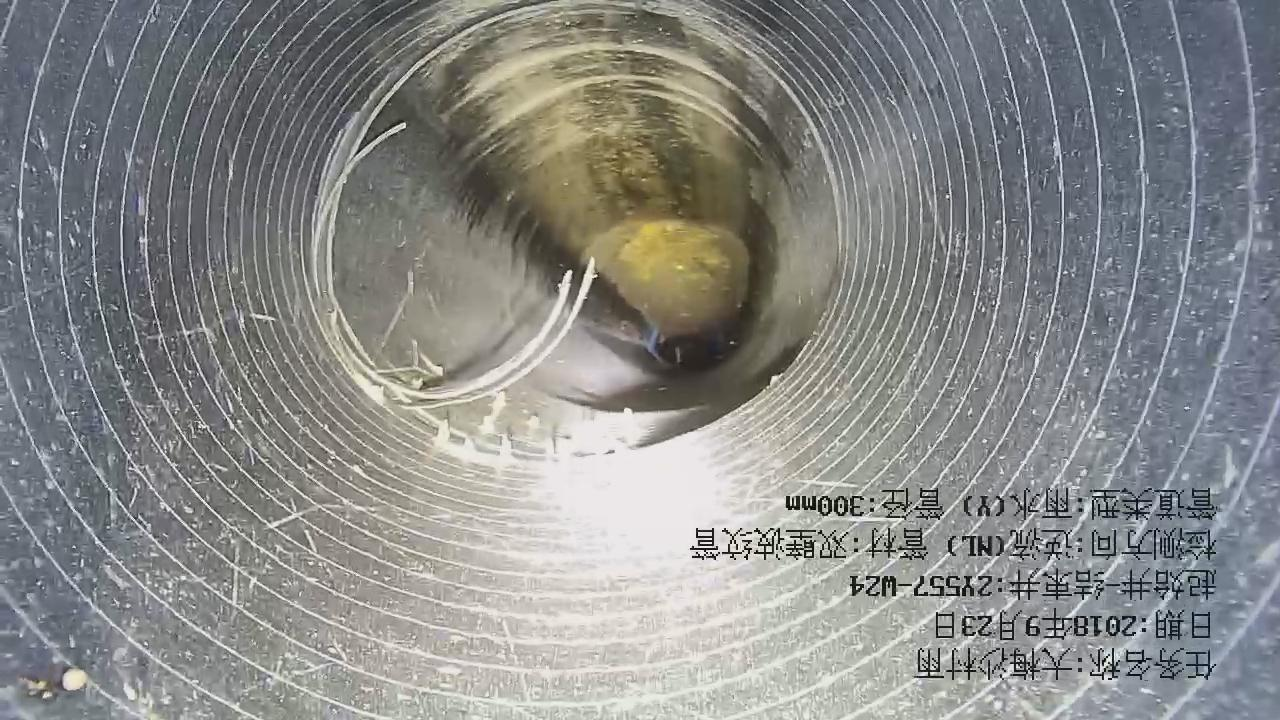BX: (549, 374, 714, 419)
CJ: (598, 219, 748, 337)
JKCL: (312, 69, 599, 413)
